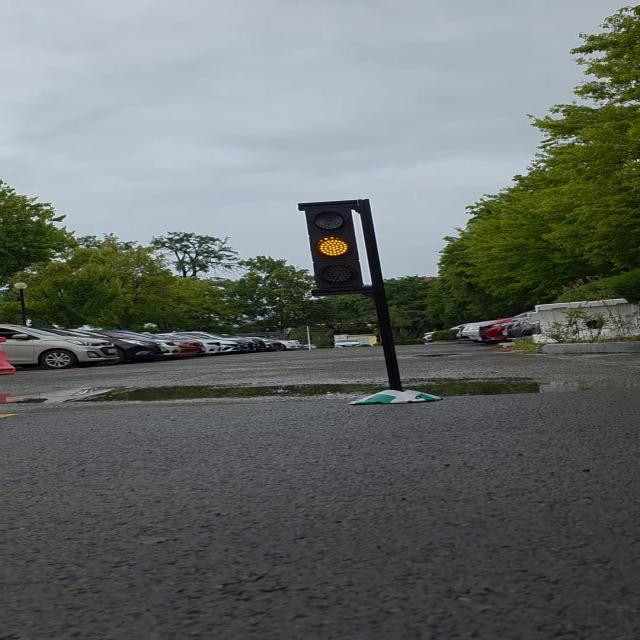yellow: (298, 201, 379, 293)
